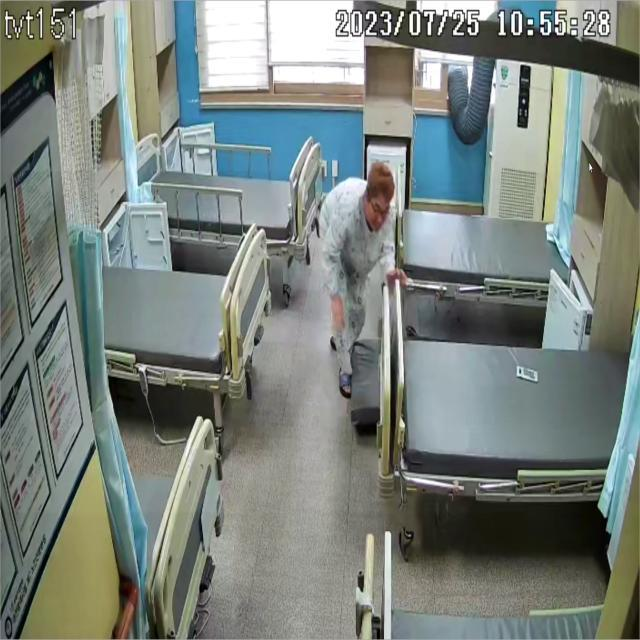bed: (397, 327, 631, 501), (102, 223, 274, 400), (136, 133, 320, 254), (388, 183, 570, 304)
danger: (318, 162, 408, 399)
patient: (318, 161, 408, 400)
